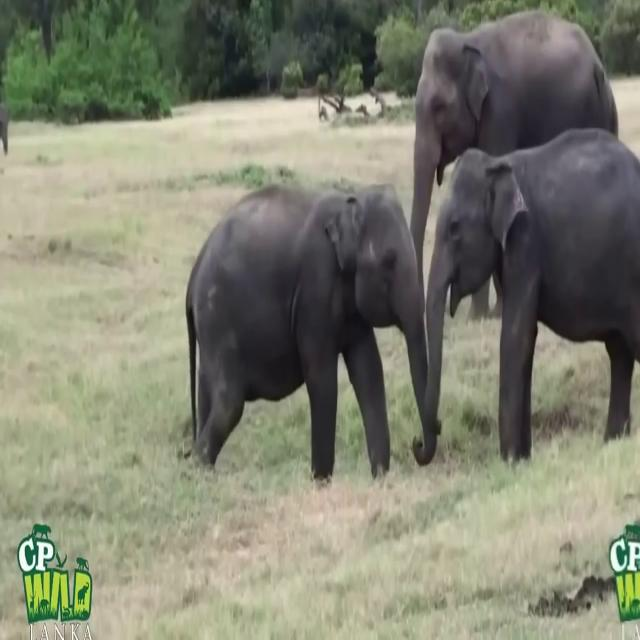Elephant: (184, 180, 440, 488), (412, 125, 640, 467), (409, 9, 619, 320)
